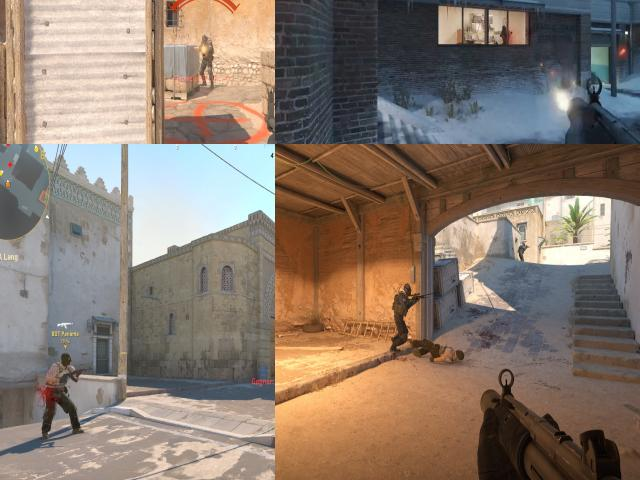CT: (392, 285, 416, 350), (202, 34, 213, 86), (501, 25, 508, 45), (520, 244, 526, 259)
CT-Head: (403, 284, 412, 296), (202, 35, 208, 44), (522, 242, 526, 245)
Dead: (42, 352, 78, 435), (407, 336, 472, 364)
T-Head: (62, 353, 72, 365)
